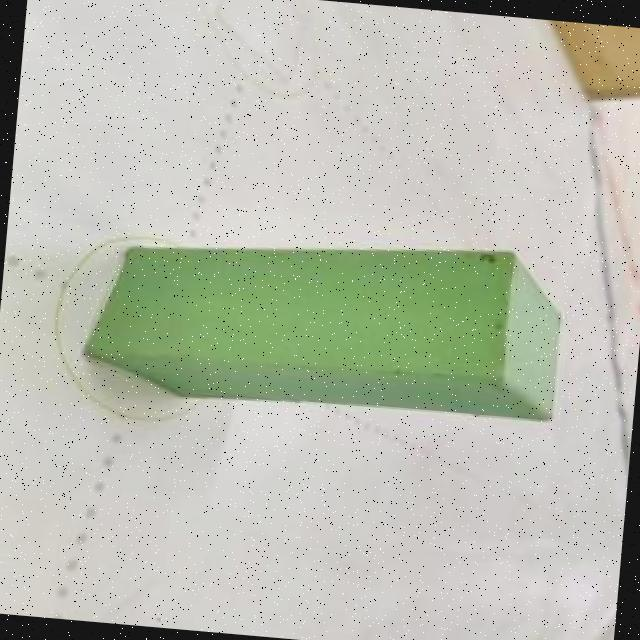greenbox: (82, 214, 573, 427)
